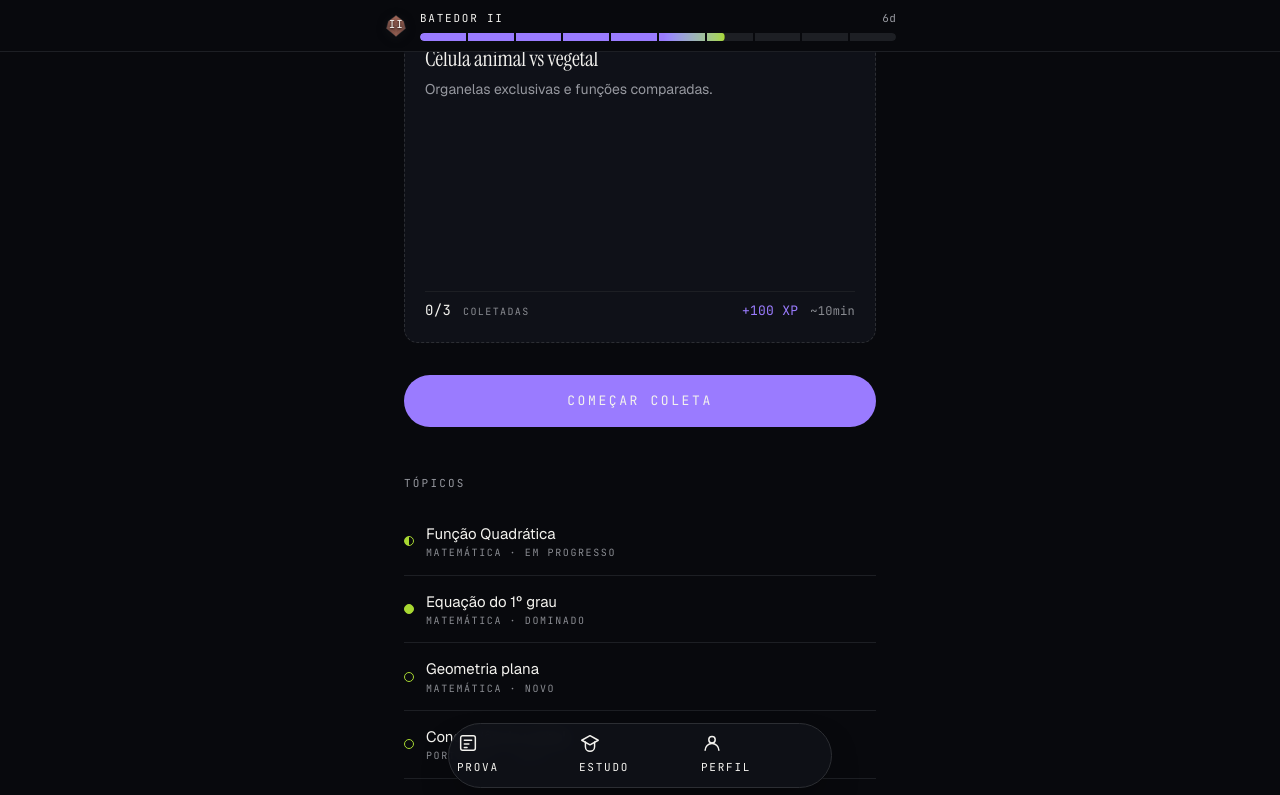
Test: EstudoPage (integration) › enters arena mode and reveals/grades flashcards
(page scrolled)
Click the button "Começar coleta".
click(640, 401)  # box [404,375,876,427]
(page scrolled)
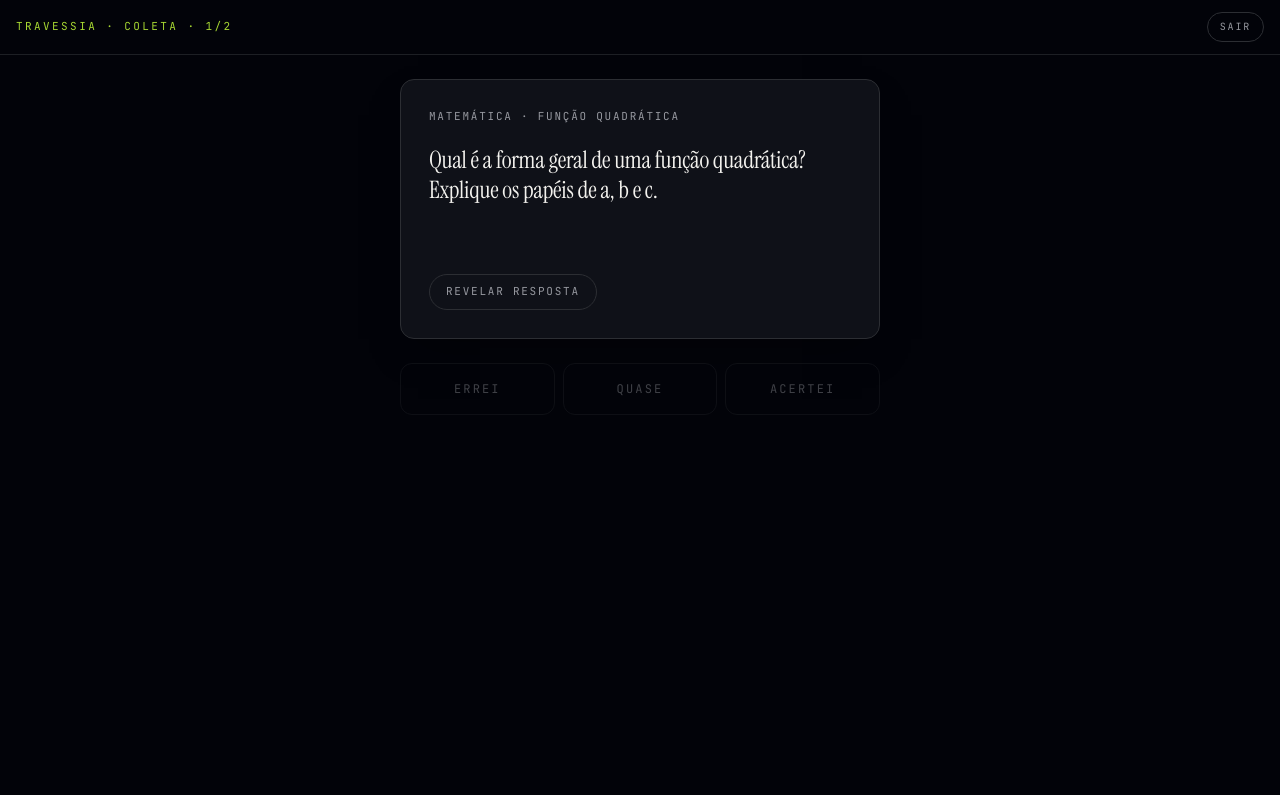
Check: the text "travessia · coleta · 1/2" is shown, box [16,18,232,35]
Check: the text "forma geral" is shown, box [429,144,806,205]
# Reveal + grade
Click the button "Revelar resposta".
click(513, 292)  # box [429,274,597,310]
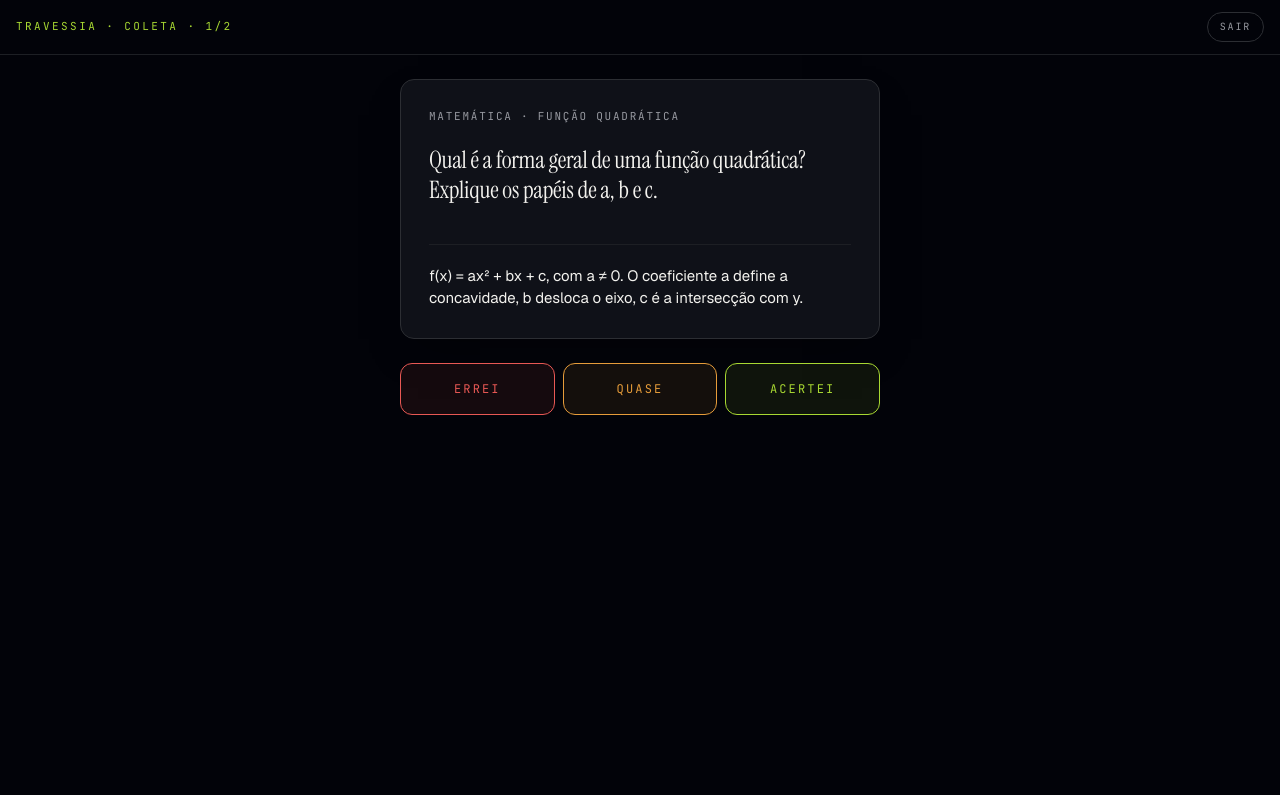
Click the button "acertei".
click(803, 389)  # box [725,362,880,415]
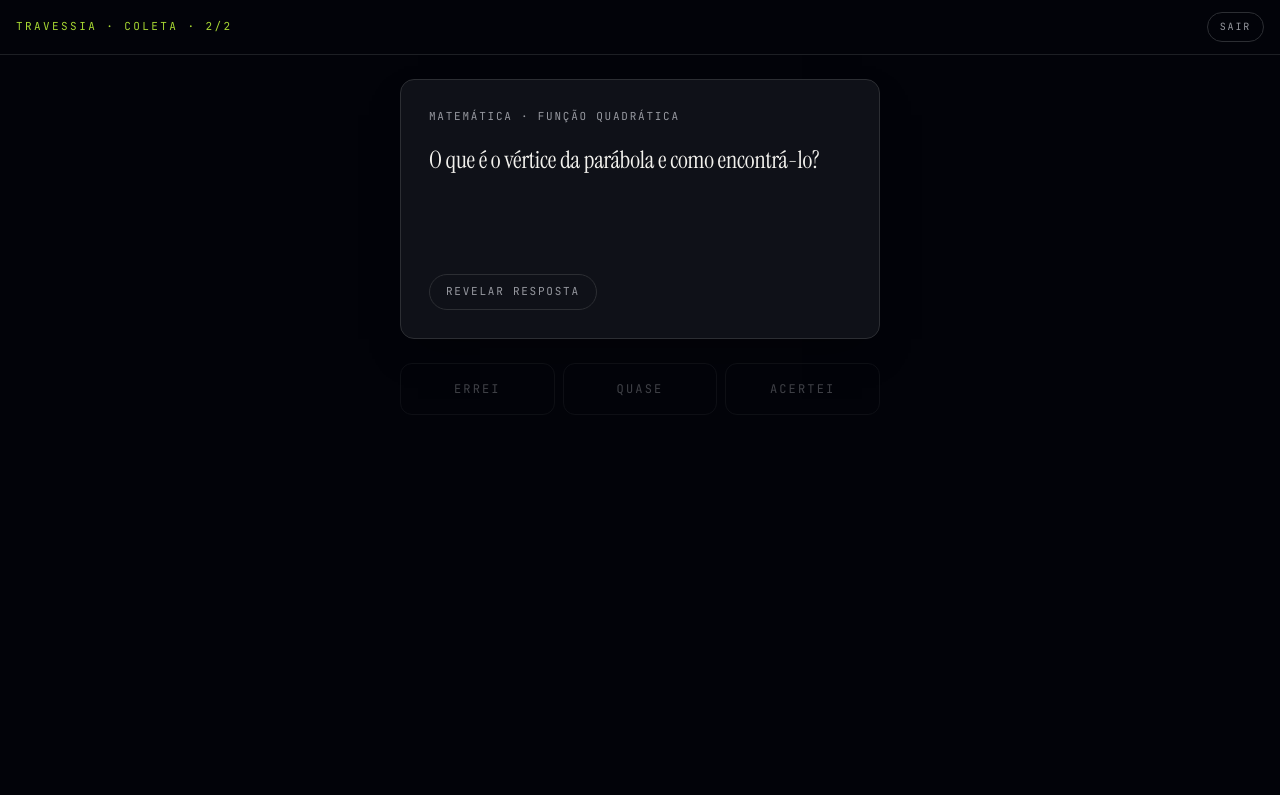
Check: the text "O que é o vértice da parábola e como encontrá-lo?" is shown, box [429,144,820,174]
